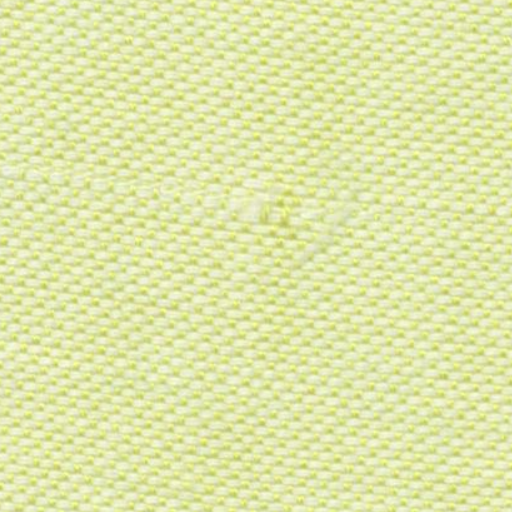DuanSha: (216, 176, 345, 246)
